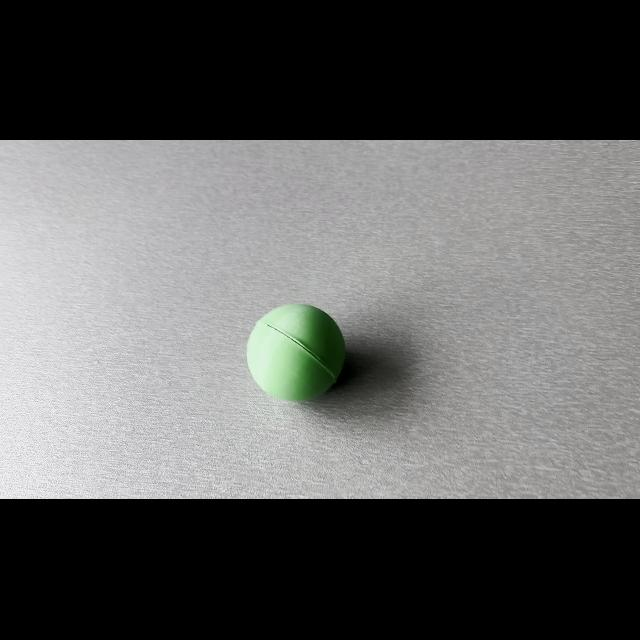objects: (242, 297, 354, 405)
